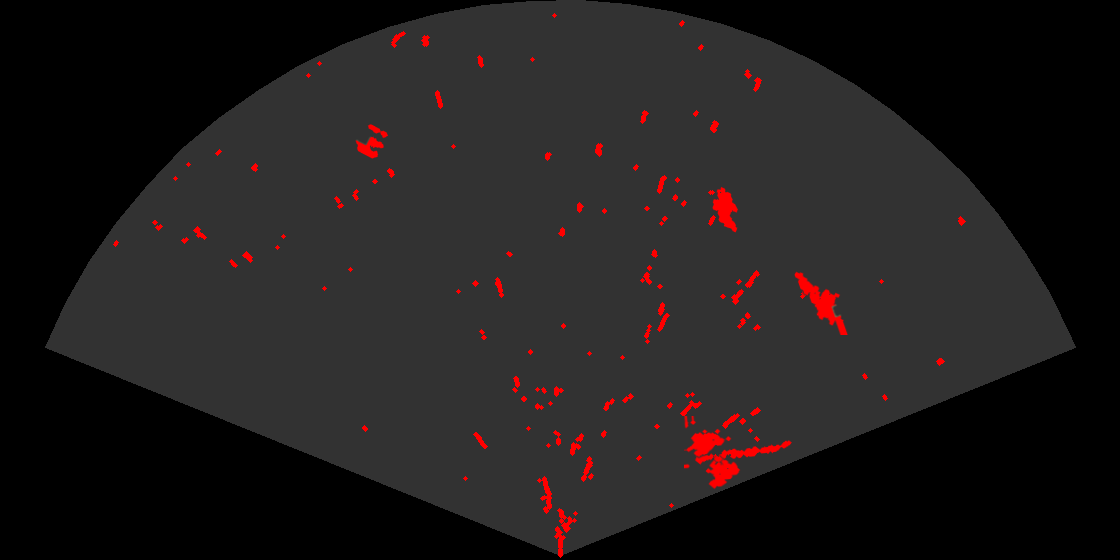AUV: (711, 185, 739, 234)
ball: (354, 123, 390, 160)
cage: (684, 416, 742, 491)
chain: (693, 439, 793, 466)
frogman: (793, 270, 850, 335)
